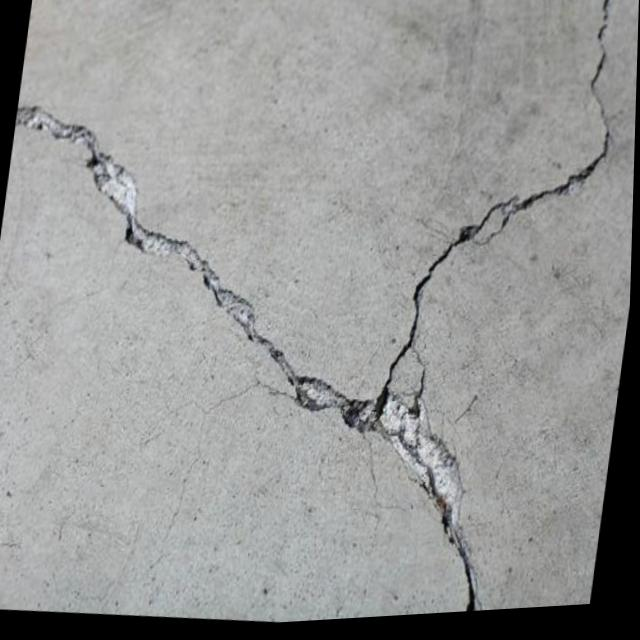Crack: (161, 237, 399, 477), (0, 80, 224, 292), (388, 168, 577, 308), (346, 370, 496, 546), (554, 0, 639, 215), (379, 269, 449, 400), (429, 519, 508, 619)
